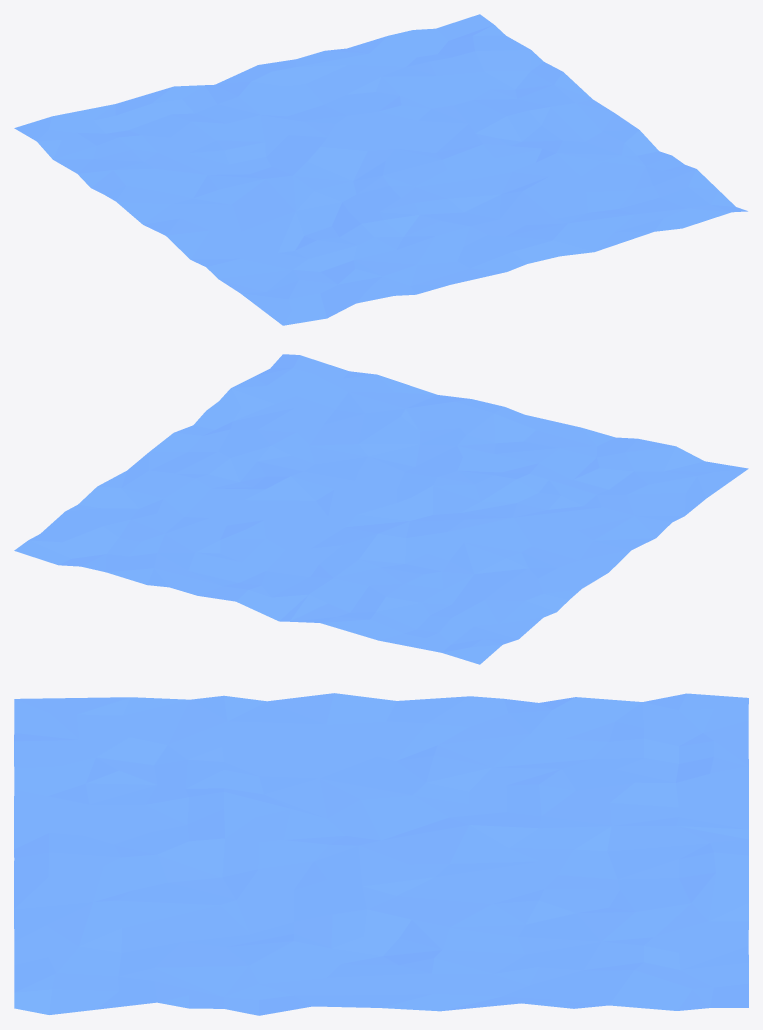
The model's file is water.fbx.
The picture shows the model from 3 angles, top to bottom: view 1: azimuth 30°, elevation 25°; view 2: azimuth 150°, elevation 25°; view 3: azimuth 270°, elevation 25°; orthographic projection. The views are drawn at different scales.
Parts seen in each view (by area): view 1: Water; view 2: Water; view 3: Water.
Boxes of the visible parts, x1,y1,x2,y2 form: Water: (14,14,747,325); Water: (14,354,748,664); Water: (14,693,748,1015).
Size of the model in its own units: 60.94 by 60.95 by 1.72.
